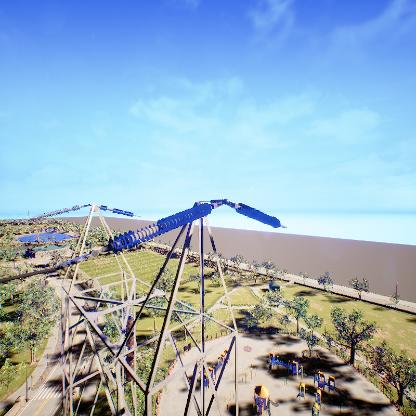insulator: (107, 202, 214, 252), (234, 204, 281, 226), (123, 315, 136, 383), (36, 203, 87, 220), (99, 205, 135, 216)
